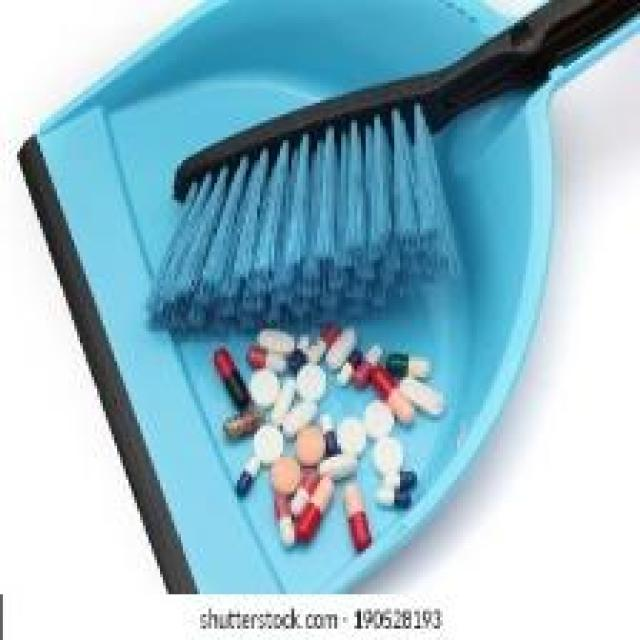Medicine: (200, 317, 448, 575)
